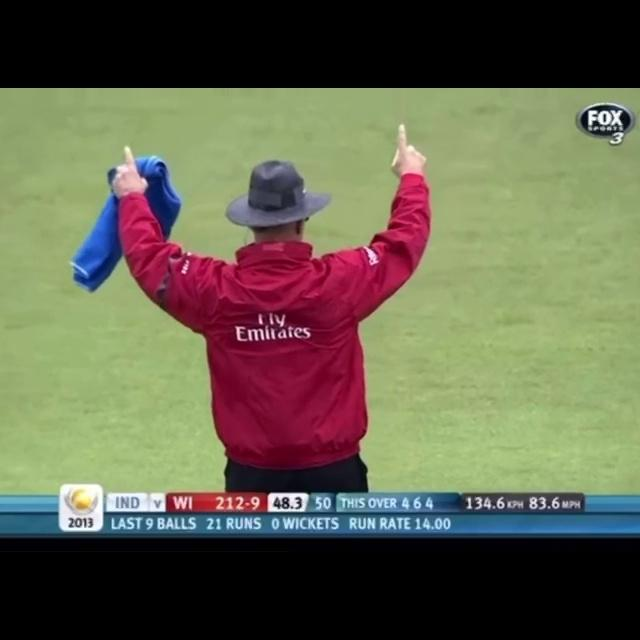umpire: (79, 105, 445, 478)
